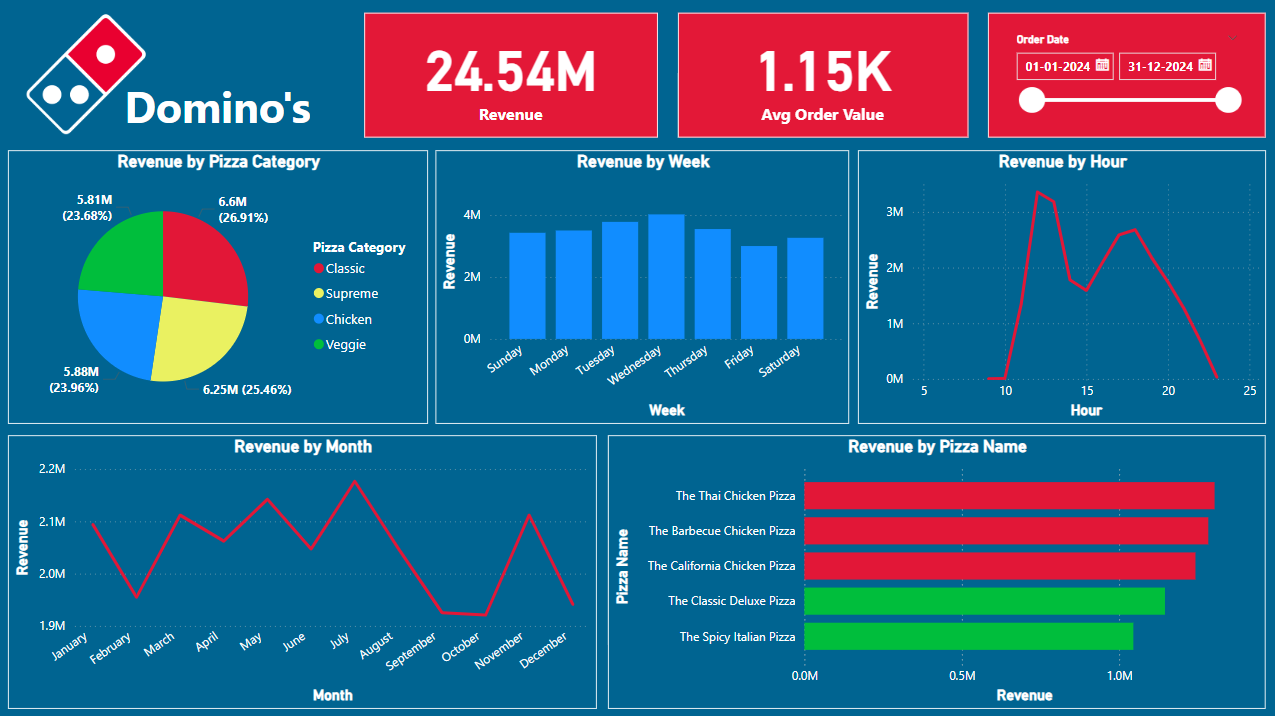

The page's visual inventory and layout, read from the dashboard file:
{"tool":"powerbi","page":{"name":"Page 1","canvas":[1280,720],"ordinal":0},"visuals":[{"type":"image","box":[24.1,0,129.1,150.8],"z":0},{"type":"textbox","box":[121.9,72.4,208.7,68.8],"z":1000},{"type":"lineChart","title":"Revenue by Month","fields":{"Y":["Dataset.Revenue"],"Category":["Dataset.Month Name"]},"box":[9.7,436.7,588.7,273.9],"z":2000},{"type":"columnChart","title":"Revenue by Week","fields":{"Category":["Dataset.Week"],"Y":["Dataset.Revenue"]},"box":[437.9,150.8,413.8,273.9],"z":3000},{"type":"pieChart","title":"Revenue by Pizza Category","fields":{"Category":["Dataset.pizza_category"],"Y":["Dataset.Revenue"]},"box":[9.7,150.8,419.8,273.9],"z":4000},{"type":"card","fields":{"Values":["Dataset.Revenue"]},"box":[366.2,13.8,293.8,125],"z":5000},{"type":"slicer","fields":{"Values":["Dataset.order_date"]},"box":[990,13.8,277.5,125],"z":6000},{"type":"card","fields":{"Values":["Dataset.AOV"]},"box":[680,13.8,290,125],"z":7000},{"type":"clusteredBarChart","title":"Revenue by Pizza Name","fields":{"Y":["Dataset.Revenue"],"Category":["Dataset.pizza_name"]},"box":[610.5,436.7,657.5,273.9],"z":8000},{"type":"lineChart","title":"Revenue by Hour","fields":{"Y":["Dataset.Revenue"],"Category":["Dataset.Hour"]},"box":[860.2,150.8,407.8,273.9],"z":9001}]}

Visuals, with their boxes in screenshot pixels (x1, y1, x2, y2), scaled from the page's 1280x720 canvas onto the 1275x716 screenshot:
image: (24,0,153,150)
textbox: (121,72,329,140)
"Revenue by Month" lineChart: (10,434,596,707)
"Revenue by Week" columnChart: (436,150,848,422)
"Revenue by Pizza Category" pieChart: (10,150,428,422)
card - Dataset.Revenue: (365,14,657,138)
slicer - Dataset.order_date: (986,14,1263,138)
card - Dataset.AOV: (677,14,966,138)
"Revenue by Pizza Name" clusteredBarChart: (608,434,1263,707)
"Revenue by Hour" lineChart: (857,150,1263,422)
